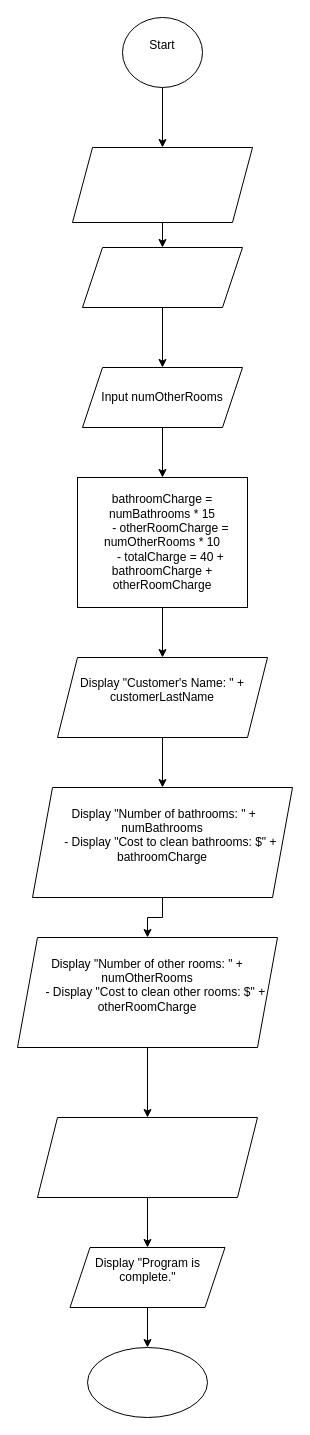
The diagram is 310 pixels wide and 1435 high, and some of its shapes have lost their labels. Here are the shapes that lost their labels. From the top down, the box of each, then its label:
(72, 146, 252, 222): Input customerLastName
(82, 246, 242, 308): Input numBathrooms
(36, 1116, 258, 1198): Display "Total service charge: $" + totalCharge
(86, 1346, 208, 1418): End
